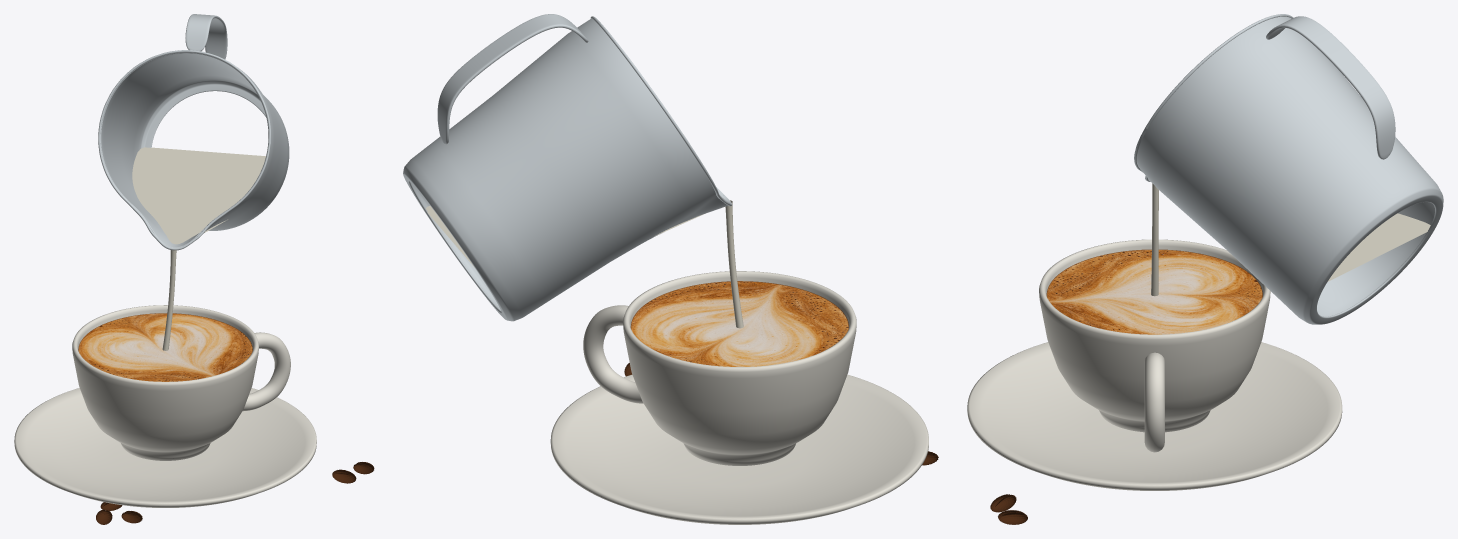
The model's file is coffee-pour-inspection.glb.
3 views of the same model, side by side, from view 1: azimuth 30°, elevation 25°; view 2: azimuth 150°, elevation 25°; view 3: azimuth 270°, elevation 25° (orthographic). The views are drawn at different scales.
Parts seen in each view (by area): view 1: Matched ceramic saucer, Porcelain cup | 180 ml bowl, 450 ml pitcher | fluted spout and thin steel shell, Latte | textured microfoam surface, Visible milk | gravity-level free surface, Rolled stainless lip, Continuous ceramic handle, Steel ribbon handle, Continuous milk stream | visual approximation; view 2: 450 ml pitcher | fluted spout and thin steel shell, Matched ceramic saucer, Porcelain cup | 180 ml bowl, Latte | textured microfoam surface, Steel ribbon handle, Continuous ceramic handle, Continuous milk stream | visual approximation, Rolled stainless lip; view 3: 450 ml pitcher | fluted spout and thin steel shell, Matched ceramic saucer, Porcelain cup | 180 ml bowl, Latte | textured microfoam surface, Steel ribbon handle, Visible milk | gravity-level free surface, Continuous ceramic handle, Rolled stainless lip, Continuous milk stream | visual approximation.
Part boxes in pixels (x1,y1,x2,y2): Matched ceramic saucer: [14, 388, 316, 507]; Porcelain cup | 180 ml bowl: [72, 305, 258, 460]; 450 ml pitcher | fluted spout and thin steel shell: [100, 52, 289, 247]; Latte | textured microfoam surface: [78, 313, 252, 381]; Visible milk | gravity-level free surface: [132, 147, 265, 244]; Rolled stainless lip: [98, 50, 270, 250]; Continuous ceramic handle: [243, 332, 290, 411]; Steel ribbon handle: [185, 14, 227, 59]; Continuous milk stream | visual approximation: [162, 250, 176, 350]; 450 ml pitcher | fluted spout and thin steel shell: [403, 18, 729, 321]; Matched ceramic saucer: [550, 374, 928, 524]; Porcelain cup | 180 ml bowl: [623, 271, 856, 465]; Latte | textured microfoam surface: [631, 281, 848, 366]; Steel ribbon handle: [437, 14, 588, 144]; Continuous ceramic handle: [583, 305, 643, 403]; Continuous milk stream | visual approximation: [725, 200, 743, 328]; Rolled stainless lip: [590, 16, 732, 206]; 450 ml pitcher | fluted spout and thin steel shell: [1136, 16, 1443, 324]; Matched ceramic saucer: [967, 342, 1342, 490]; Porcelain cup | 180 ml bowl: [1039, 239, 1270, 432]; Latte | textured microfoam surface: [1047, 250, 1262, 334]; Steel ribbon handle: [1266, 16, 1395, 159]; Visible milk | gravity-level free surface: [1327, 213, 1430, 281]; Continuous ceramic handle: [1144, 352, 1164, 452]; Rolled stainless lip: [1134, 14, 1293, 181]; Continuous milk stream | visual approximation: [1151, 183, 1158, 296].
Bounding box in the file's own units: 0.1916 × 0.2173 × 0.1982.
6 materials, 1 textured.
